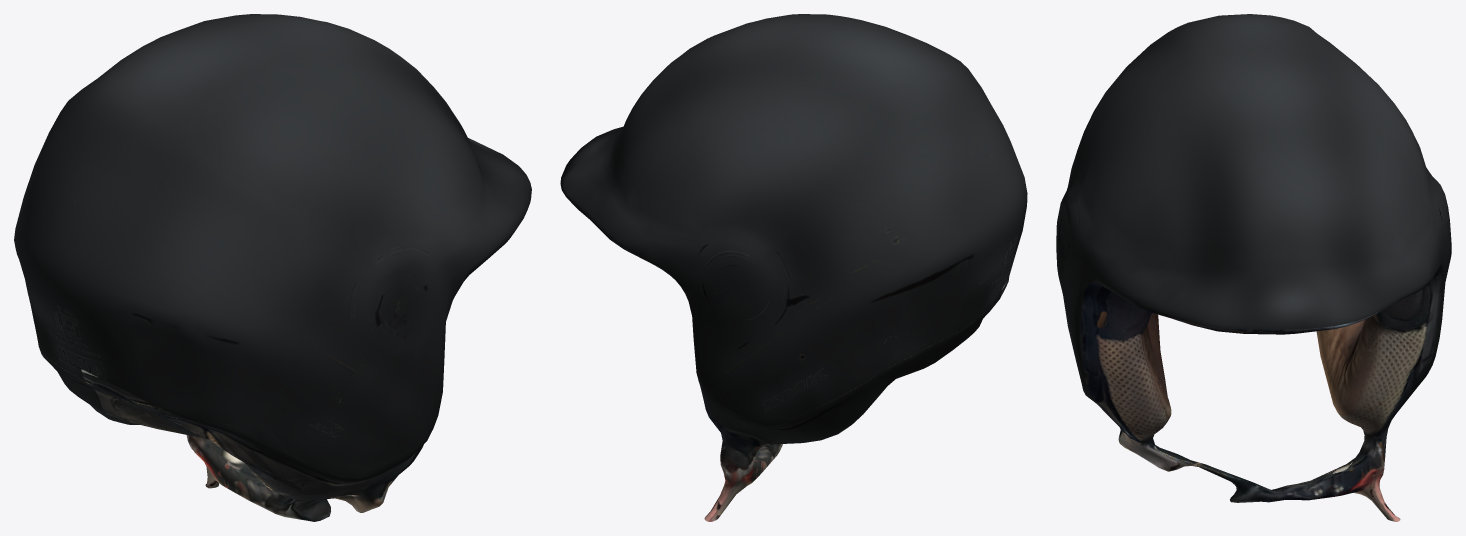
The model's file is helmet1.glb.
The picture shows the model from 3 angles, left to right: view 1: azimuth 30°, elevation 25°; view 2: azimuth 150°, elevation 25°; view 3: azimuth 270°, elevation 25°; orthographic projection. The views are drawn at different scales.
Visible parts, largest first — view 1: prop; view 2: prop; view 3: prop.
Boxes of the visible parts, bbox=[...] form: prop: bbox=[14, 14, 531, 521]; prop: bbox=[560, 14, 1027, 521]; prop: bbox=[1056, 14, 1451, 521].
Bounding box in the file's own units: 0.3026 × 0.3122 × 0.2471.
Materials: 1 (1 with a texture image).
